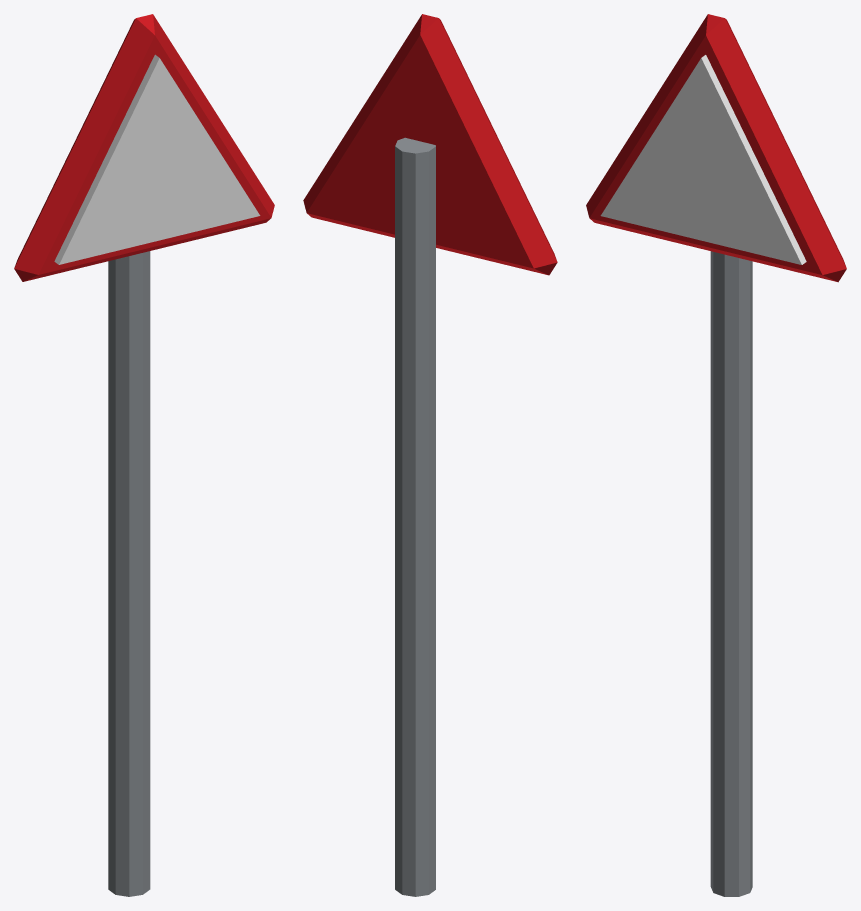
File: transport-TrafficSign2.glb
3 views of the same model, side by side, from view 1: azimuth 30°, elevation 25°; view 2: azimuth 150°, elevation 25°; view 3: azimuth 330°, elevation 25° (orthographic). The views are drawn at different scales.
Parts seen in each view (by area): view 1: Pole, Sign, Border; view 2: Pole, Border; view 3: Pole, Sign, Border.
Part boxes in pixels (x1=…): Pole: x1=108, y1=251, x2=150, y2=896; Sign: x1=54, y1=54, x2=260, y2=264; Border: x1=14, y1=14, x2=274, y2=281; Pole: x1=395, y1=137, x2=435, y2=896; Border: x1=303, y1=14, x2=557, y2=275; Pole: x1=710, y1=251, x2=752, y2=896; Sign: x1=600, y1=55, x2=806, y2=264; Border: x1=586, y1=14, x2=846, y2=282.
Size of the model in its own units: 0.4591 by 1.49 by 0.125.
